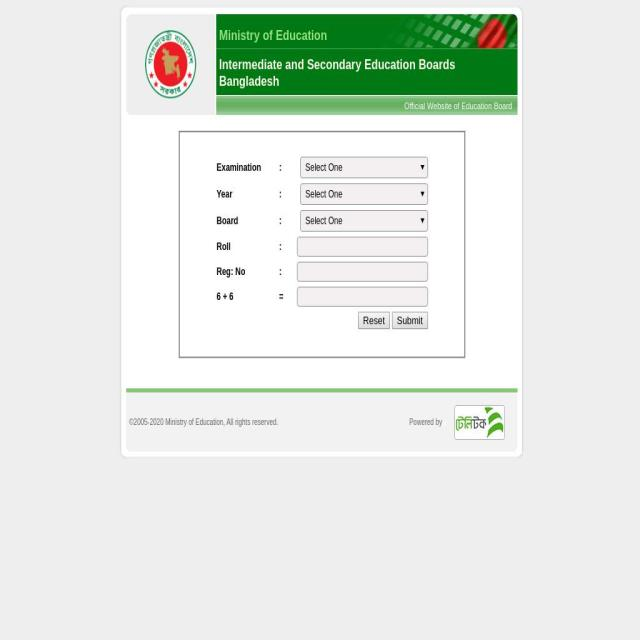field: (300, 209, 428, 232), (296, 260, 428, 282), (300, 156, 428, 178), (300, 183, 428, 205), (296, 236, 428, 256), (296, 286, 428, 306), (392, 311, 428, 329), (358, 311, 390, 329)
heading: (218, 57, 518, 90), (218, 28, 350, 44)
image: (380, 14, 518, 48), (144, 30, 197, 98), (454, 404, 506, 441), (125, 4, 134, 14), (125, 452, 134, 462), (118, 4, 126, 14), (517, 4, 525, 14), (118, 452, 126, 462), (517, 452, 525, 462), (126, 448, 130, 452), (442, 421, 446, 425), (514, 448, 518, 452)
link: (403, 101, 512, 111)
text: (129, 393, 352, 452), (118, 116, 126, 452), (517, 116, 525, 452), (215, 153, 278, 181), (215, 180, 278, 208), (215, 207, 278, 234), (215, 233, 278, 259), (215, 258, 278, 284), (215, 283, 278, 309), (125, 388, 518, 392), (118, 14, 126, 116), (517, 14, 525, 116), (277, 153, 295, 181), (277, 180, 295, 208), (277, 207, 295, 234), (277, 233, 295, 259), (277, 258, 295, 284), (277, 283, 295, 309), (408, 418, 442, 427)
